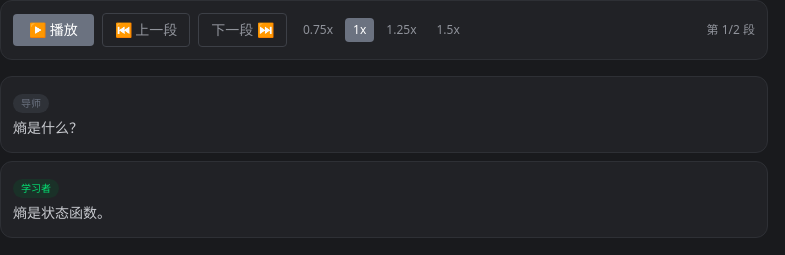
Test case: AudioReviewPlayer — playback › pauses and resumes through the speech engine
Click the button "▶️ 播放": (53, 30) [13,14,94,46]
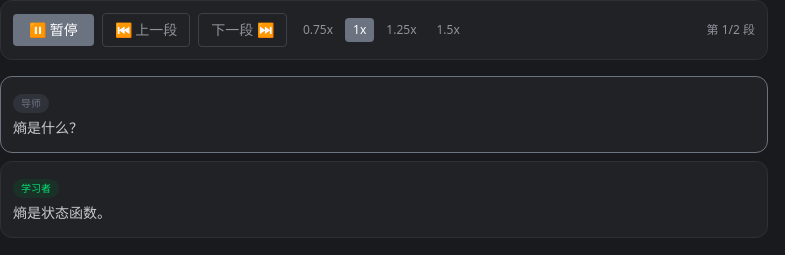
Check: the button "⏸️ 暂停" is shown
Click the button "⏸️ 暂停": (53, 30) [13,14,94,46]
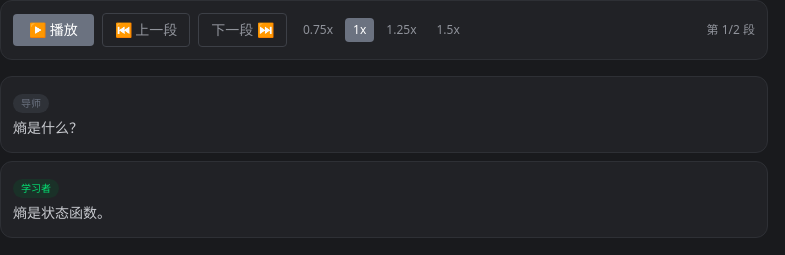
Check: the button "▶️ 播放" is shown
Click the button "▶️ 播放": (53, 30) [13,14,94,46]
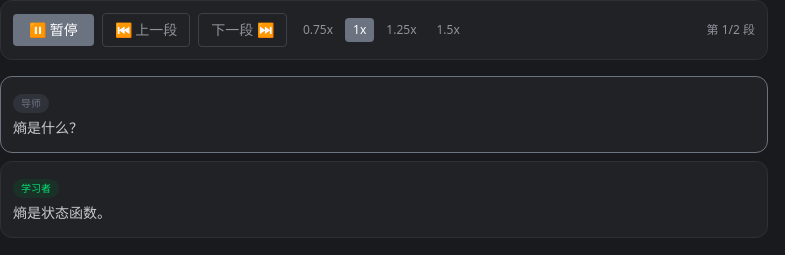
Check: the button "⏸️ 暂停" is shown, box [13,14,94,46]
